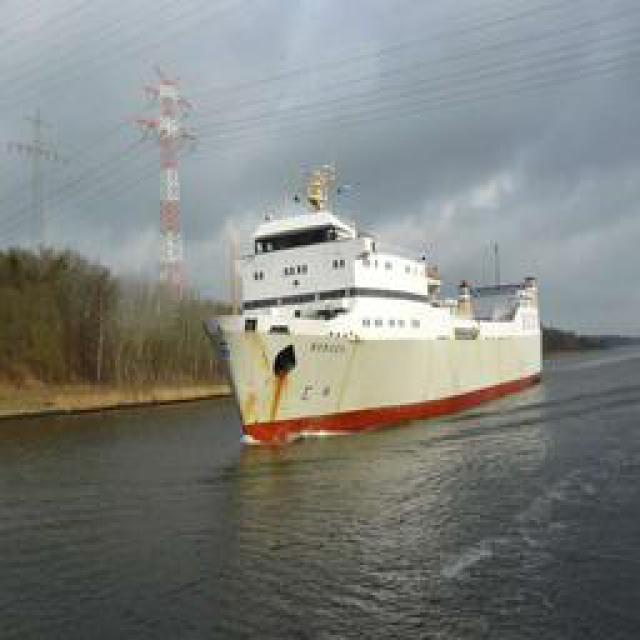Ship: (210, 156, 545, 454)
